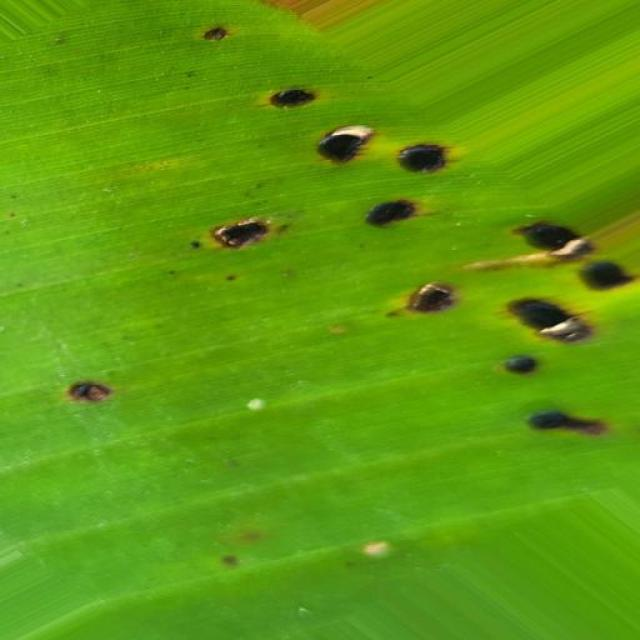Black_rot: (47, 21, 640, 490)
